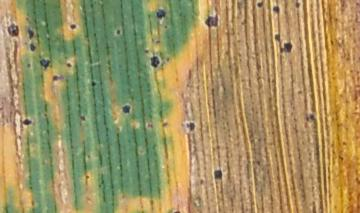tarspot: (204, 7, 220, 29), (5, 22, 20, 37), (278, 41, 294, 55), (148, 53, 161, 70), (38, 55, 51, 72), (338, 1, 349, 17), (212, 167, 223, 182), (184, 119, 195, 134), (155, 7, 165, 22), (121, 104, 133, 116), (270, 4, 282, 16), (28, 40, 38, 54), (113, 26, 123, 38), (26, 27, 35, 40), (52, 73, 65, 82), (67, 22, 78, 32), (304, 113, 314, 123), (21, 118, 32, 127), (310, 199, 317, 213), (256, 1, 266, 10), (187, 67, 193, 82), (144, 122, 153, 131), (273, 32, 281, 42), (151, 37, 161, 45), (329, 69, 336, 80), (294, 1, 302, 10), (90, 79, 98, 88), (79, 113, 87, 122), (336, 154, 345, 162), (66, 60, 73, 70), (295, 88, 303, 96), (161, 120, 168, 128), (340, 140, 348, 147), (197, 177, 204, 185), (255, 159, 262, 167), (88, 1, 94, 10), (141, 48, 150, 54), (354, 175, 360, 184), (86, 151, 91, 161), (25, 62, 32, 69), (42, 111, 49, 118), (83, 173, 91, 179), (330, 38, 334, 49), (171, 209, 181, 213), (350, 26, 356, 32), (165, 56, 170, 63), (355, 1, 360, 8), (162, 24, 168, 29)
